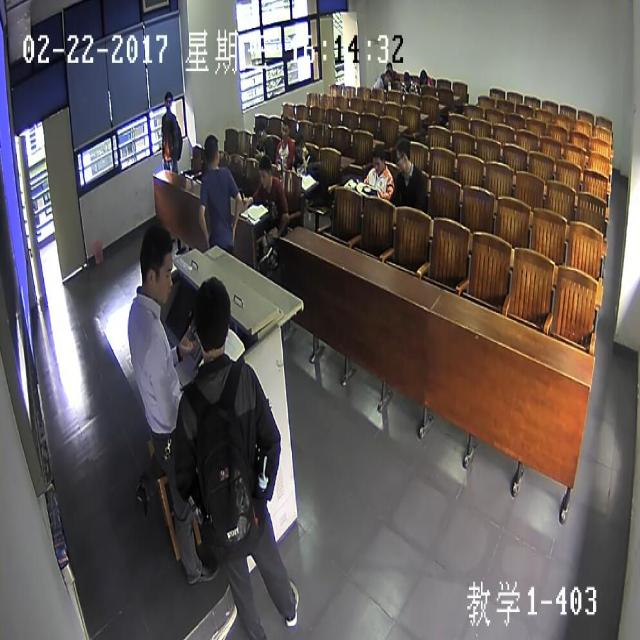person: (189, 272, 231, 361), (133, 216, 174, 306), (393, 133, 412, 177), (202, 132, 220, 168), (256, 154, 272, 187), (371, 141, 386, 174), (293, 130, 305, 160), (254, 120, 266, 144), (279, 116, 290, 138), (163, 90, 174, 110), (418, 65, 427, 83), (382, 69, 391, 86), (403, 66, 410, 84), (386, 60, 392, 74)
